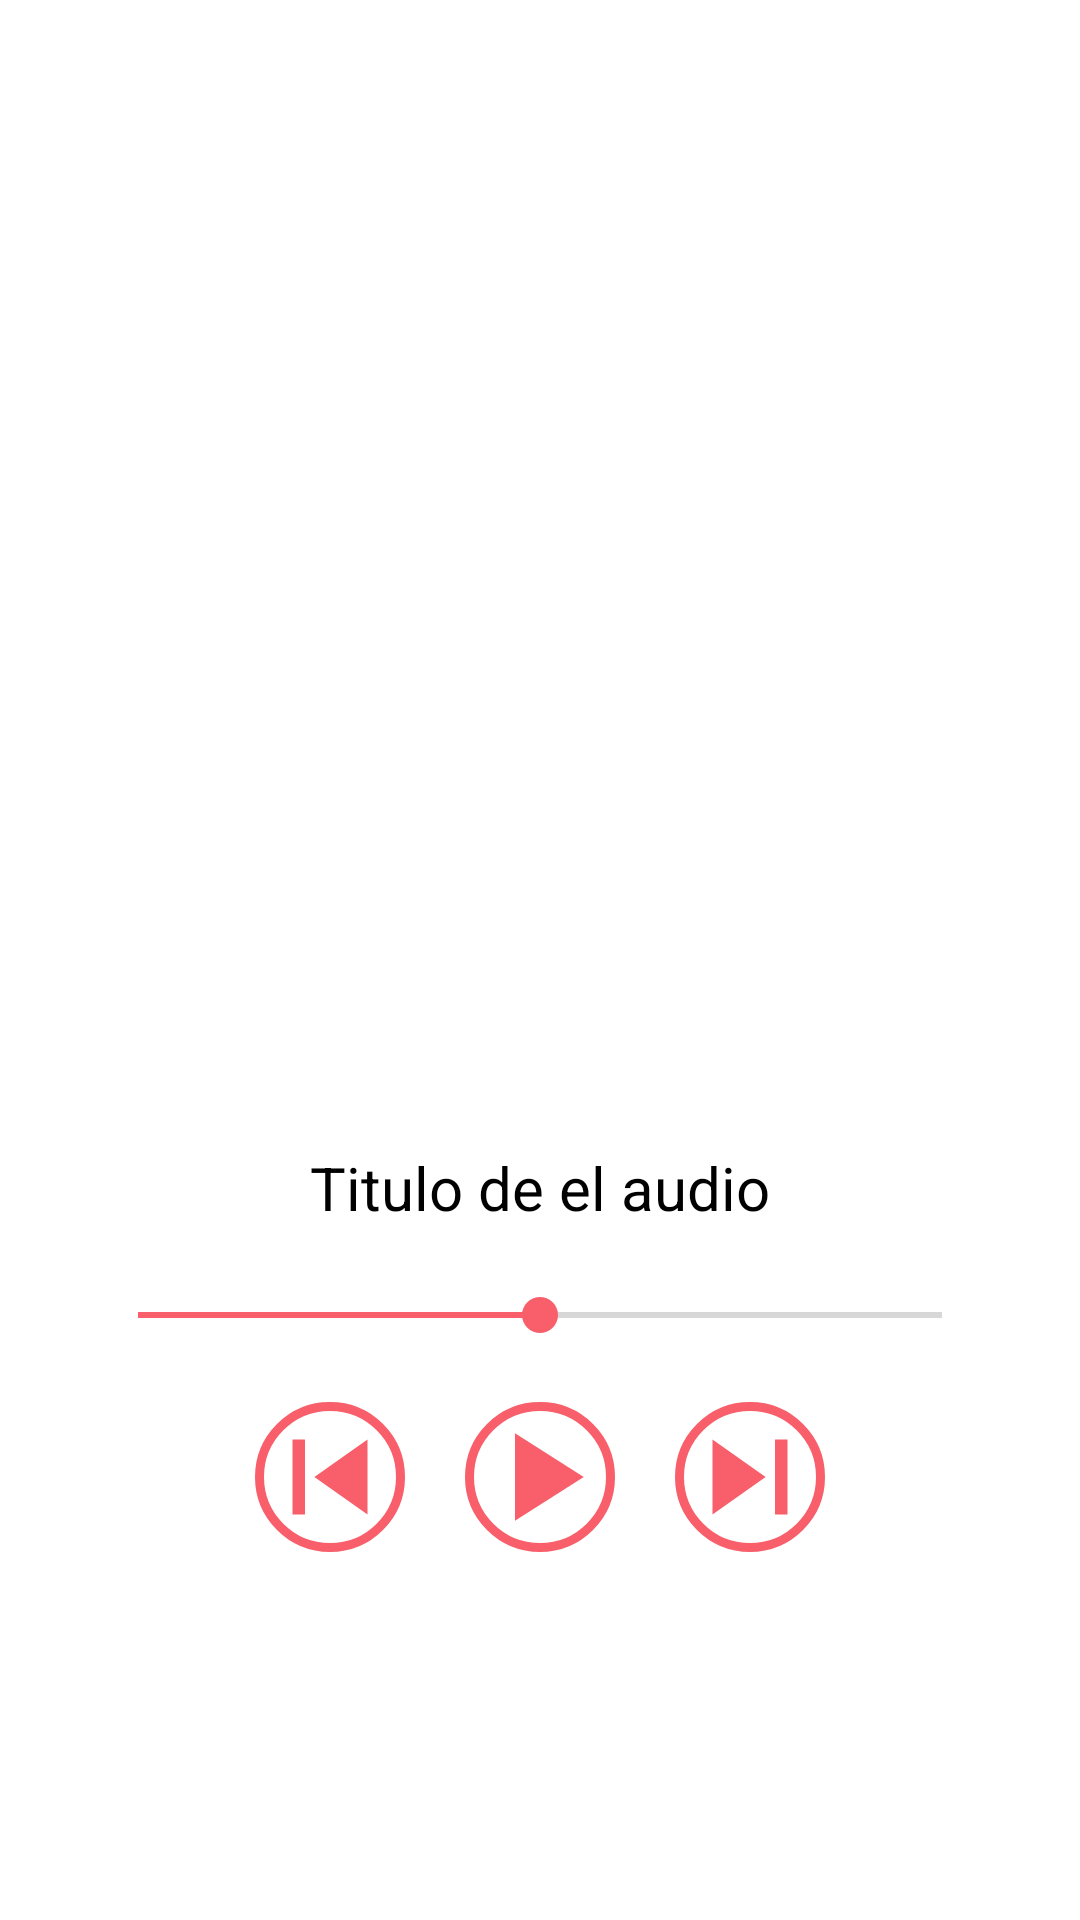

Point at icon controls on the screen. Image size 1080x1920, points as point (x, y).
play arrow: point (540, 1477)
skip next: point (750, 1477)
skip previous: point (330, 1477)
